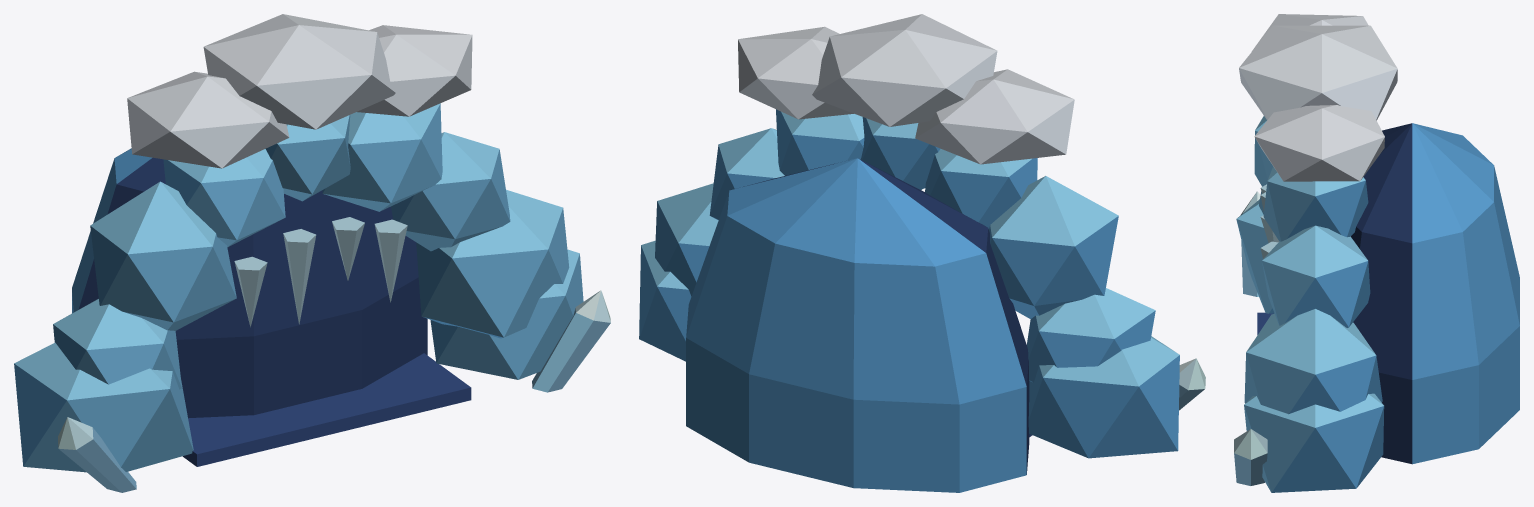
Rendered from habitat_prop_yeti.fbx.
The picture shows the model from 3 angles, left to right: view 1: azimuth 30°, elevation 25°; view 2: azimuth 150°, elevation 25°; view 3: azimuth 270°, elevation 25°; orthographic projection. The views are drawn at different scales.
Visible parts, largest first — view 1: habitat_prop_yeti; view 2: habitat_prop_yeti; view 3: habitat_prop_yeti.
Boxes of the visible parts, x1,y1,x2,y2 form: habitat_prop_yeti: (14,14,610,492); habitat_prop_yeti: (639,14,1205,492); habitat_prop_yeti: (1234,14,1519,492).
Bounding box in the file's own units: 1.83 × 1.2 × 0.8848.
